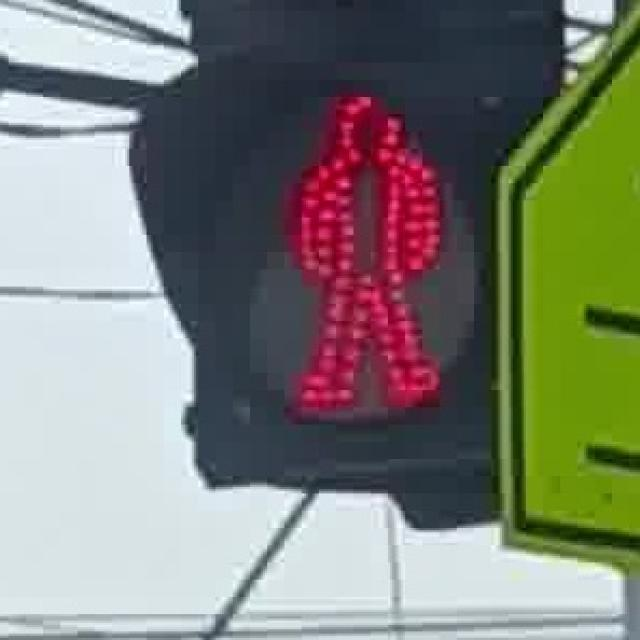red-crossing: (267, 66, 442, 434)
